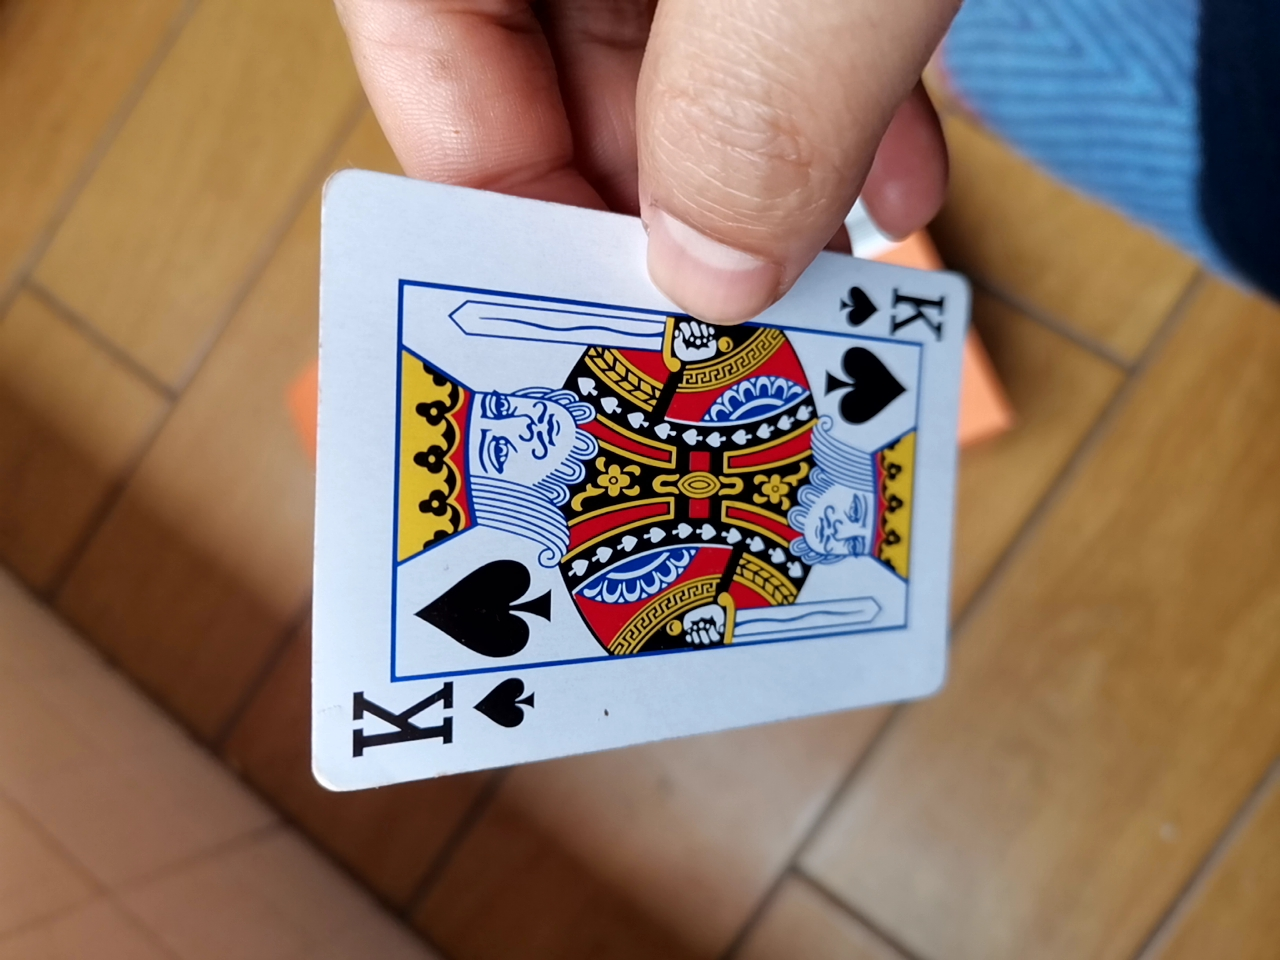ht k: (298, 178, 973, 806)
